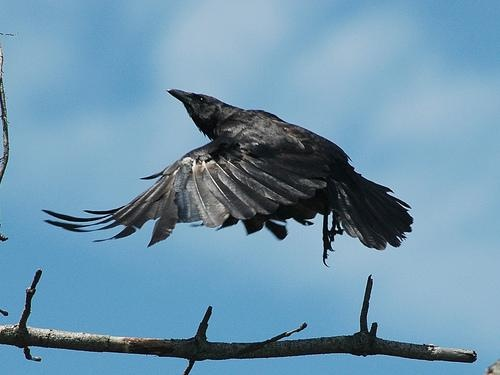bird: (32, 88, 418, 262)
